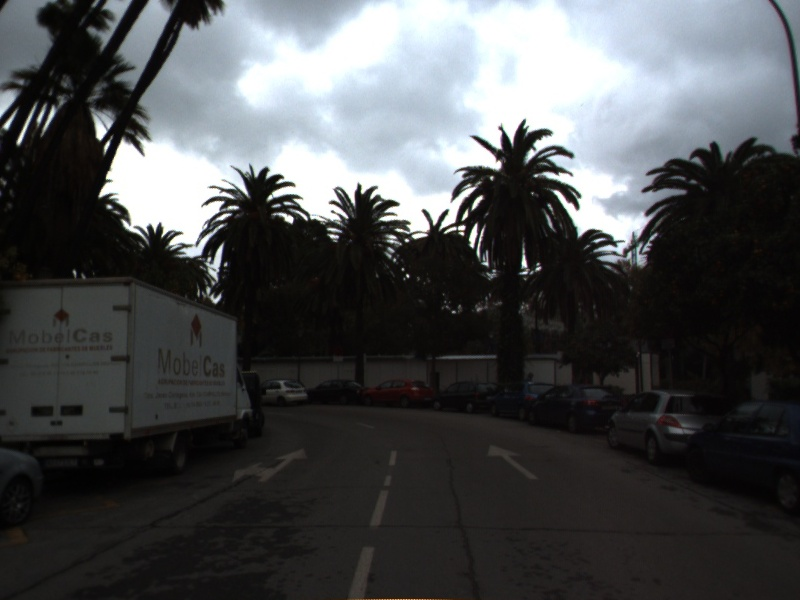STRAIGHT: (485, 442, 541, 481)
STRAIGHT_LEFT: (229, 445, 310, 485)
